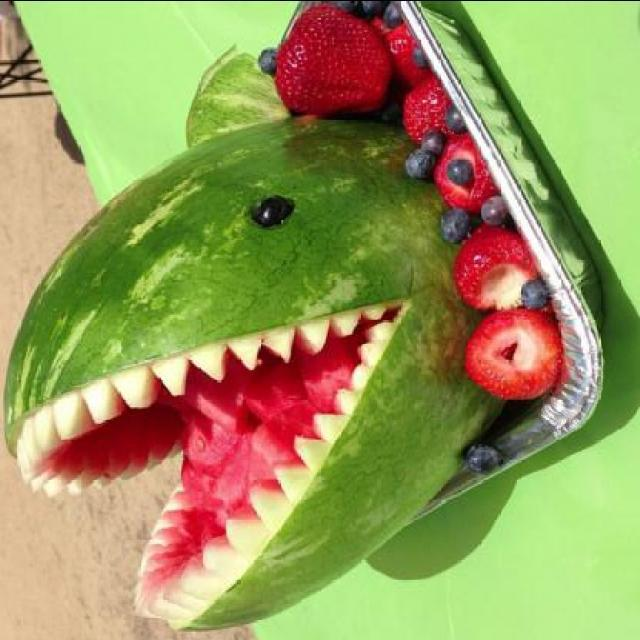Watermelon: (3, 44, 505, 636)
